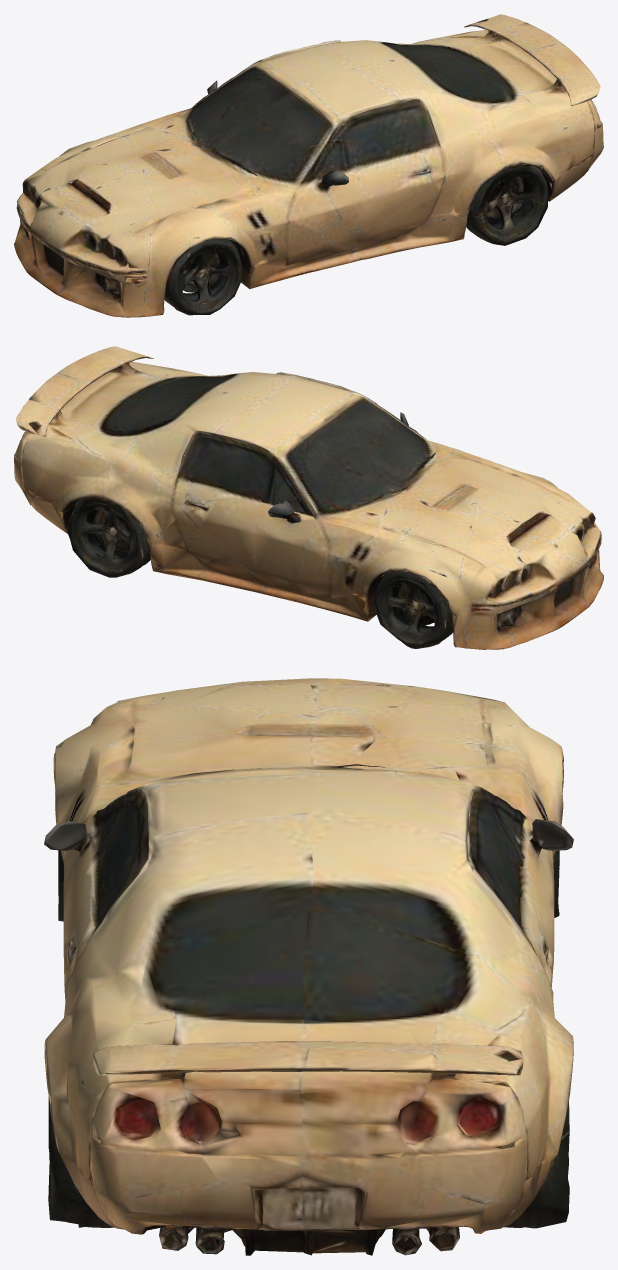
Rendered from car_sports_light_q3.glb.
3 renders of one model, top to bottom at view 1: azimuth 30°, elevation 25°; view 2: azimuth 150°, elevation 25°; view 3: azimuth 270°, elevation 25°, orthographic. The views are drawn at different scales.
Size of the model in its own units: 4.37 by 1.25 by 1.92.
1 material, 1 textured.
